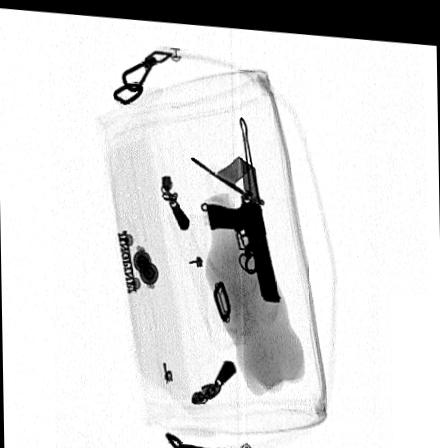Gun: (205, 188, 282, 296)
